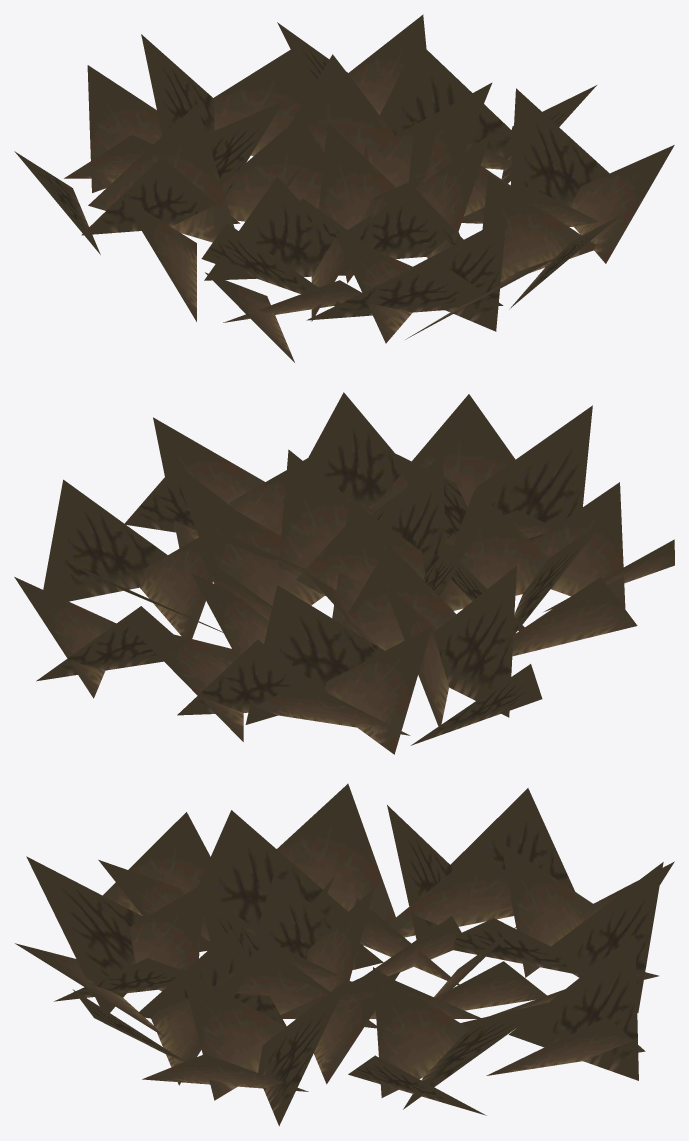
Rendered from dec_dry_grass_09_83313.glb.
3 renders of one model, top to bottom at view 1: azimuth 30°, elevation 25°; view 2: azimuth 150°, elevation 25°; view 3: azimuth 270°, elevation 25°, orthographic. The views are drawn at different scales.
Parts seen in each view (by area): view 1: dry_grass_09_mesh; view 2: dry_grass_09_mesh; view 3: dry_grass_09_mesh.
Part boxes in pixels (x1,y1,x2,y2): dry_grass_09_mesh: (14,14,674,362); dry_grass_09_mesh: (14,392,674,754); dry_grass_09_mesh: (15,783,674,1126).
Size of the model in its own units: 1.5 by 0.284 by 1.59.
Materials: 1 (1 with a texture image).
